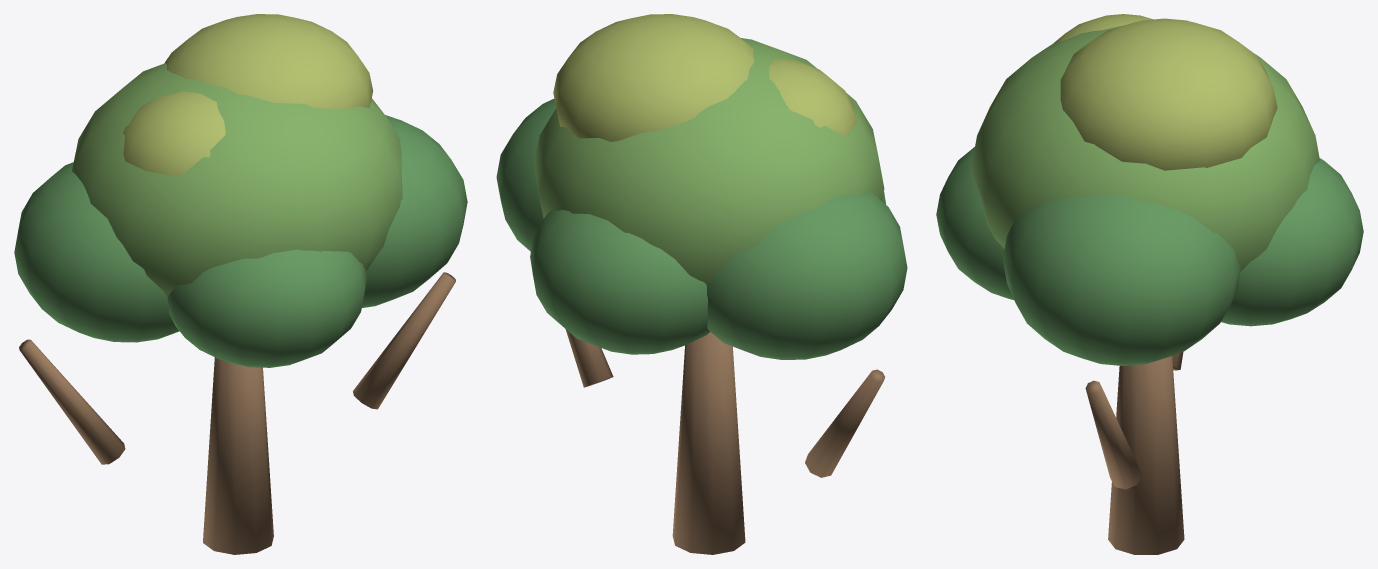
File: stylized_oak.glb
The picture shows the model from 3 angles, left to right: view 1: azimuth 30°, elevation 25°; view 2: azimuth 150°, elevation 25°; view 3: azimuth 270°, elevation 25°; orthographic projection. The views are drawn at different scales.
Parts seen in each view (by area): view 1: OakCanopy_0, OakCanopy_4, OakCanopy_1, OakCanopy_5, OakTrunk, OakCanopy_2, OakCanopy_6, Branch1, Branch2; view 2: OakCanopy_0, OakCanopy_1, OakCanopy_5, OakCanopy_3, OakTrunk, OakCanopy_2, OakCanopy_6, Branch2, Branch1; view 3: OakCanopy_2, OakCanopy_0, OakCanopy_5, OakCanopy_3, OakTrunk, OakCanopy_4, Branch1, OakCanopy_6.
Part boxes in pixels (bbox=[...]): OakCanopy_0: bbox=[72, 63, 402, 296]; OakCanopy_4: bbox=[167, 249, 366, 367]; OakCanopy_1: bbox=[14, 162, 179, 342]; OakCanopy_5: bbox=[164, 14, 372, 109]; OakTrunk: bbox=[203, 357, 273, 554]; OakCanopy_2: bbox=[362, 115, 467, 307]; OakCanopy_6: bbox=[123, 91, 225, 176]; Branch1: bbox=[353, 272, 455, 409]; Branch2: bbox=[19, 339, 125, 464]; OakCanopy_0: bbox=[534, 38, 884, 284]; OakCanopy_1: bbox=[706, 191, 907, 359]; OakCanopy_5: bbox=[553, 14, 754, 141]; OakCanopy_3: bbox=[530, 210, 709, 354]; OakTrunk: bbox=[672, 332, 745, 554]; OakCanopy_2: bbox=[496, 99, 555, 251]; OakCanopy_6: bbox=[769, 59, 856, 135]; Branch2: bbox=[805, 369, 885, 477]; Branch1: bbox=[565, 329, 613, 387]; OakCanopy_2: bbox=[1003, 194, 1240, 365]; OakCanopy_0: bbox=[971, 25, 1319, 271]; OakCanopy_5: bbox=[1060, 18, 1277, 170]; OakCanopy_3: bbox=[1221, 158, 1363, 326]; OakTrunk: bbox=[1108, 356, 1184, 554]; OakCanopy_4: bbox=[936, 147, 1013, 299]; Branch1: bbox=[1085, 380, 1141, 489]; OakCanopy_6: bbox=[1054, 14, 1152, 42].
Bounding box in the file's own units: 5.33 × 6.35 × 4.7.
